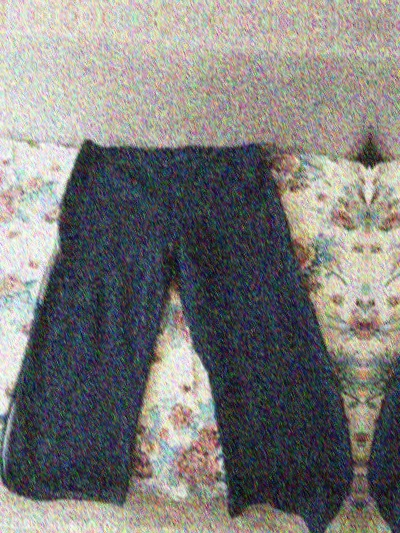Pants: (0, 103, 356, 525), (376, 114, 400, 533)
